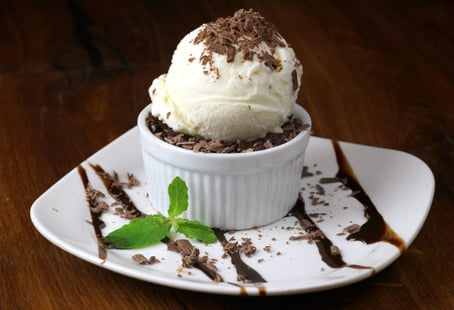sushi: (138, 101, 312, 231)
